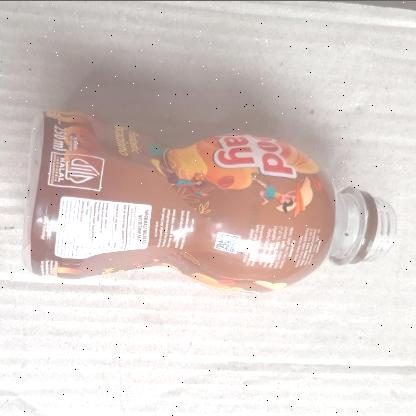Plastic Bottle: (24, 108, 400, 294)
